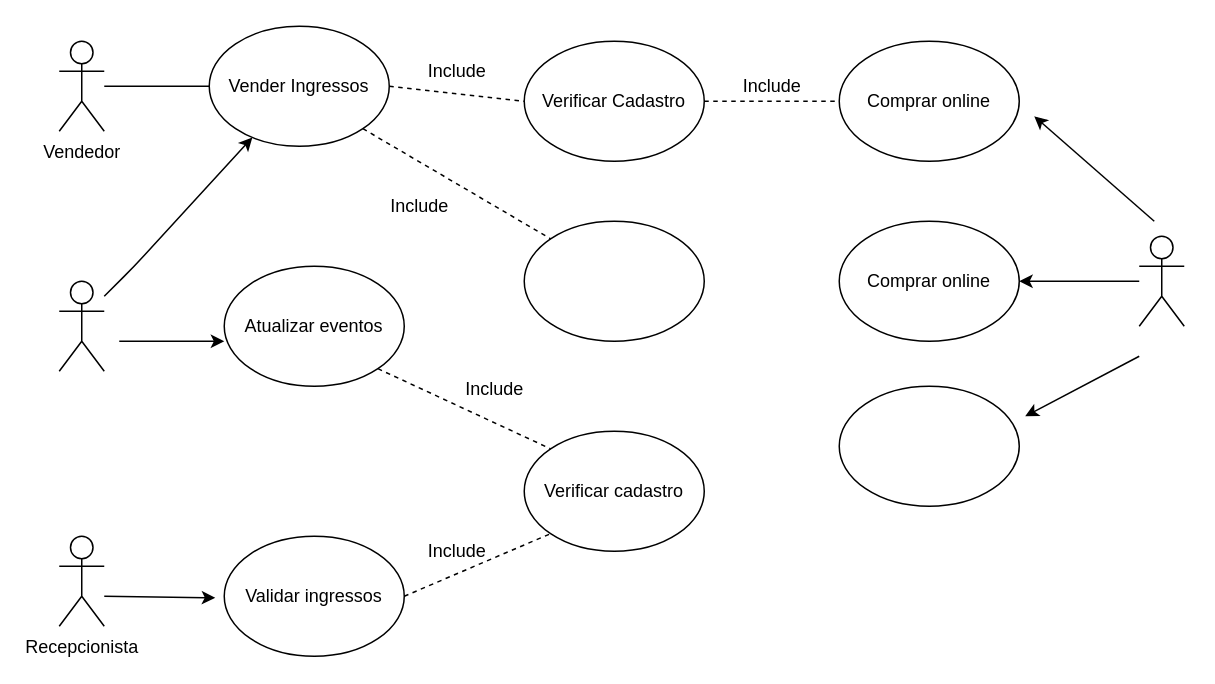
Some shapes in this 1215 by 684 pixel diagram are drawn without their labels. The shapes that lost their labels are listed below. From the top down, each one's centre as x and y in pixels, then its label:
At (613,280): "Receber pagamento".
At (1161,280): "Cliente".
At (81,325): "Promotor".
At (928,445): "Cadastar-se".
